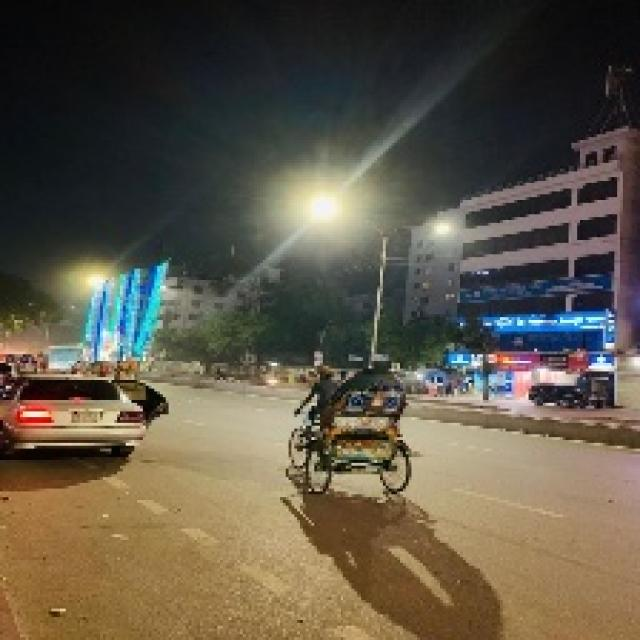car: (6, 355, 161, 468), (526, 379, 613, 412)
rickshaw: (300, 370, 419, 503)
